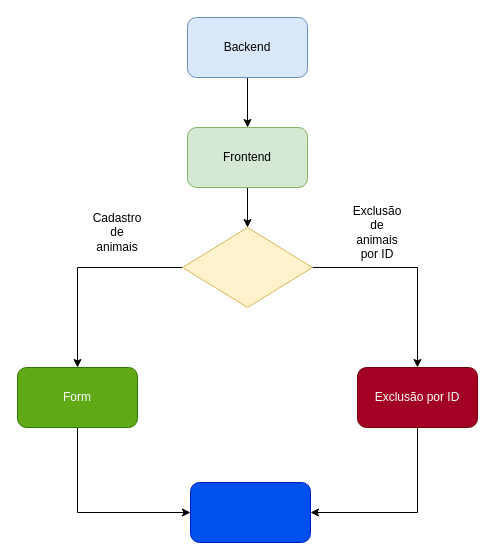
Some shapes in this 495 by 560 pixel diagram are drawn without their labels. The shapes that lost their labels are listed below. From the top down, each one's centre as x and y in pixels, then its label:
the point at 247,267: Decisão
the point at 250,512: Lista de animais cadastrados atualizada
